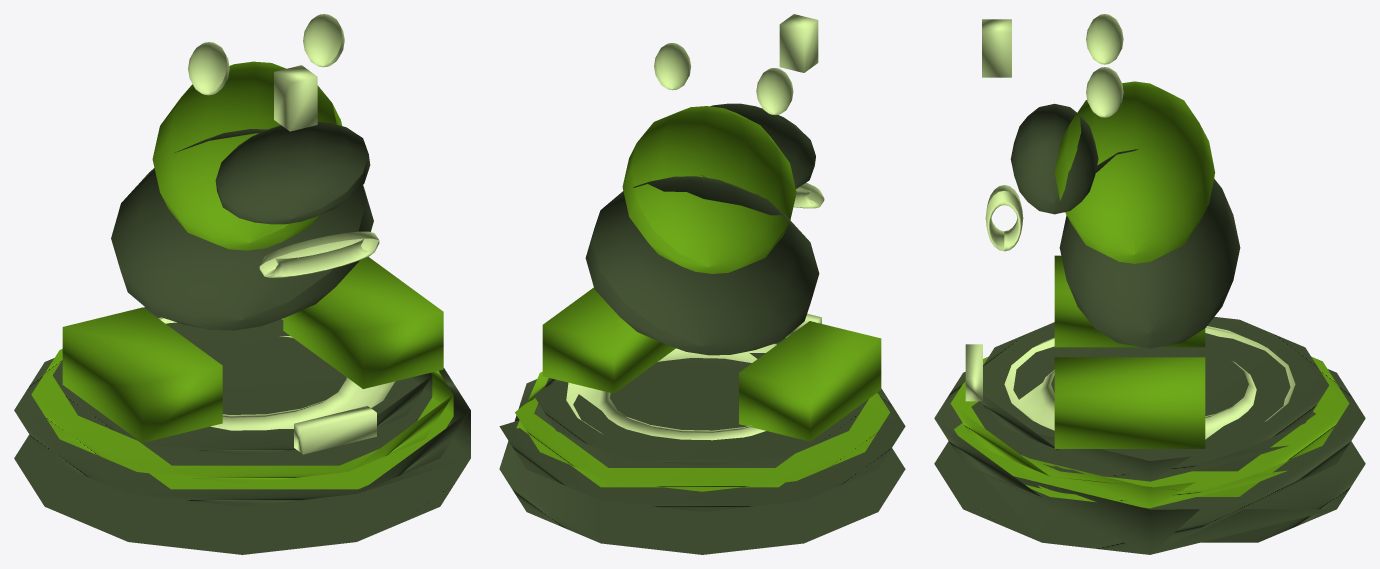
Rendered from primate.glb.
3 renders of one model, left to right at view 1: azimuth 30°, elevation 25°; view 2: azimuth 150°, elevation 25°; view 3: azimuth 270°, elevation 25°, orthographic. The views are drawn at different scales.
Visible parts, largest first — view 1: primate_#3B4A2A, primate_#65A30D, primate_#D9F99D; view 2: primate_#3B4A2A, primate_#65A30D, primate_#D9F99D; view 3: primate_#3B4A2A, primate_#65A30D, primate_#D9F99D.
Boxes of the visible parts, bbox=[...] form: primate_#3B4A2A: bbox=[14, 121, 470, 554]; primate_#65A30D: bbox=[31, 61, 453, 489]; primate_#D9F99D: bbox=[158, 14, 395, 454]; primate_#3B4A2A: bbox=[499, 103, 905, 554]; primate_#65A30D: bbox=[515, 106, 889, 491]; primate_#D9F99D: bbox=[566, 14, 824, 440]; primate_#3B4A2A: bbox=[934, 103, 1365, 554]; primate_#65A30D: bbox=[950, 81, 1349, 508]; primate_#D9F99D: bbox=[965, 14, 1295, 439].
Size of the model in its own units: 1.72 by 1.87 by 1.72.
